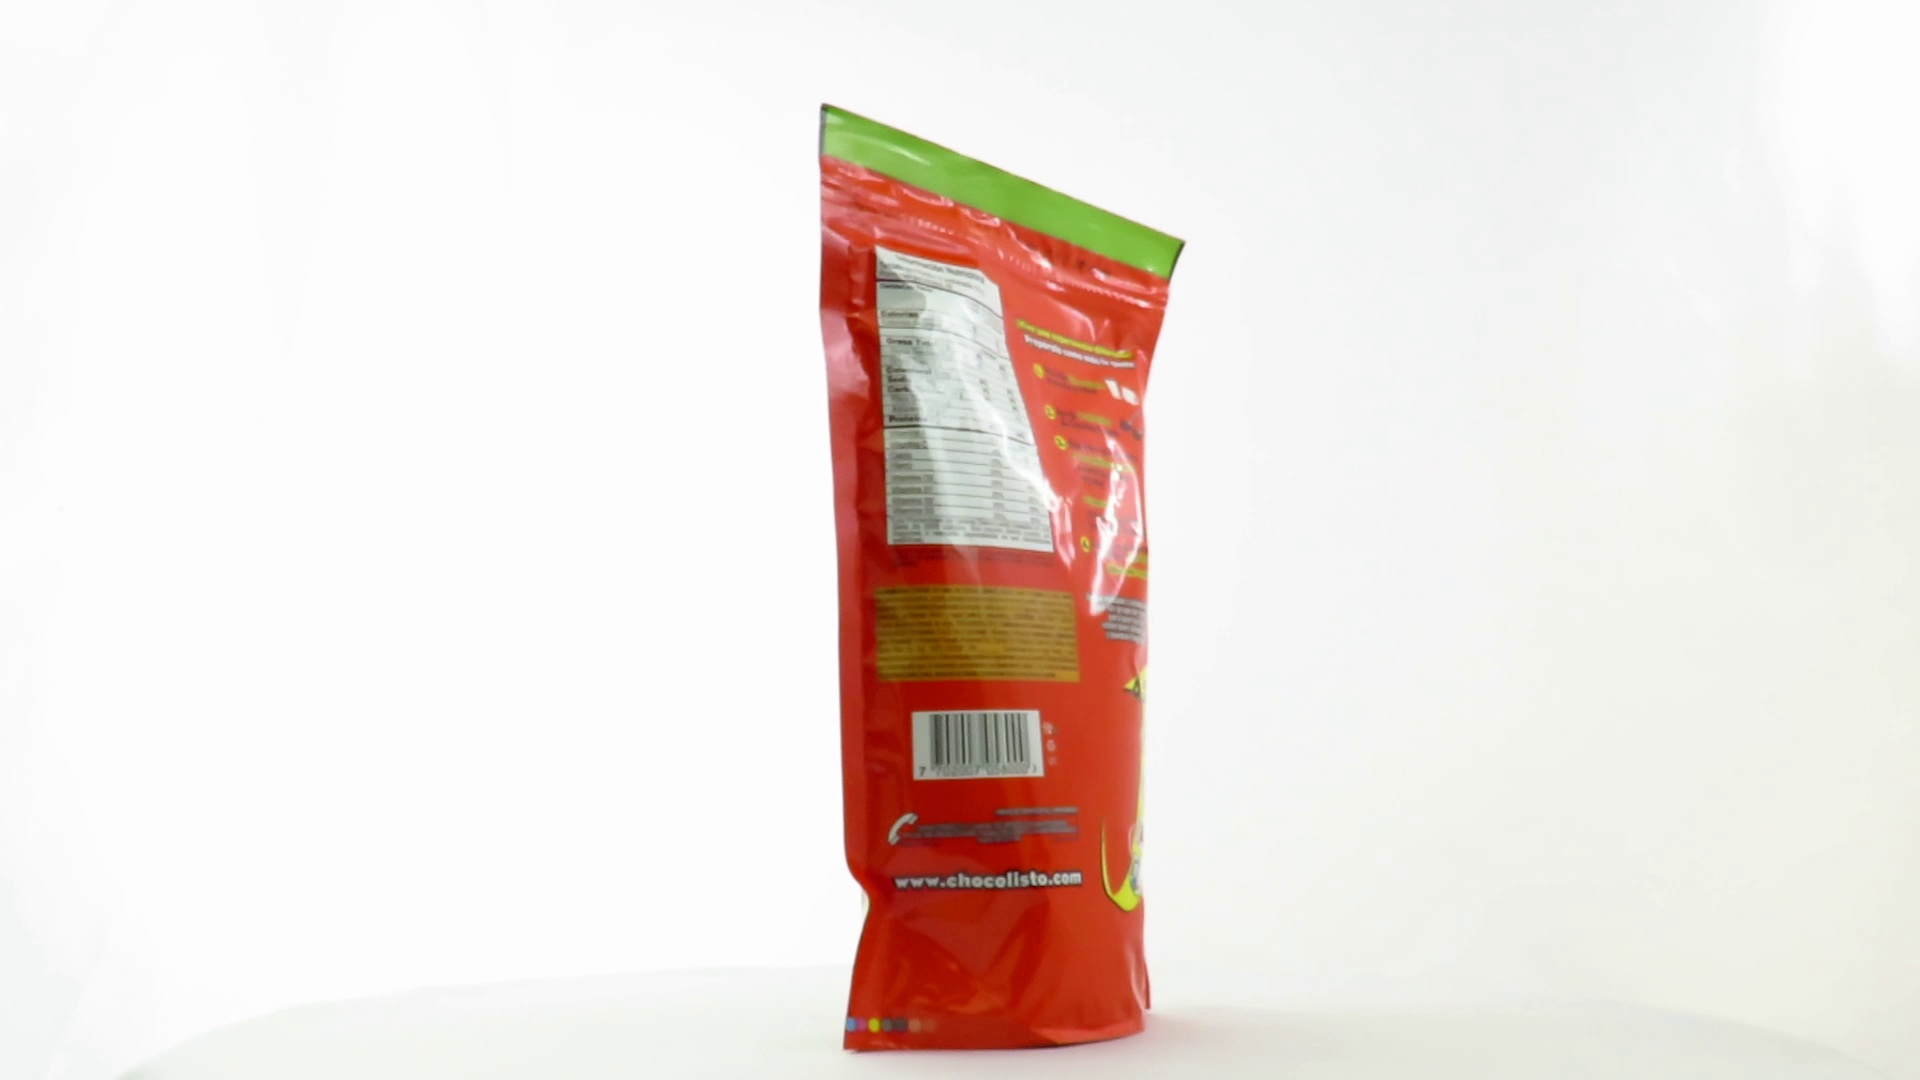COL0170102DYP50000: (814, 98, 1192, 1062)
